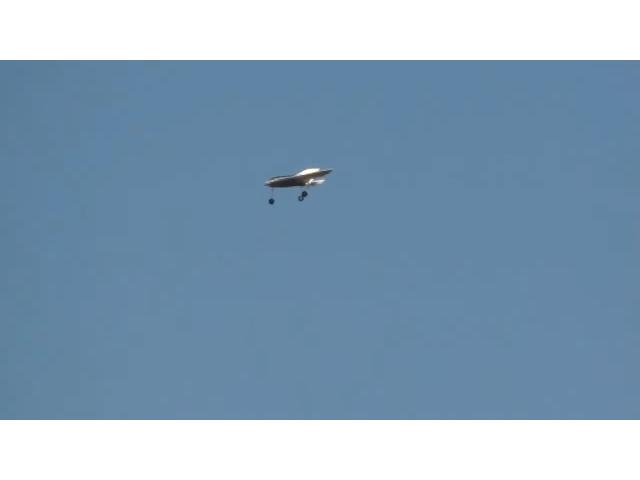Anti-Drone: (264, 167, 334, 187)
